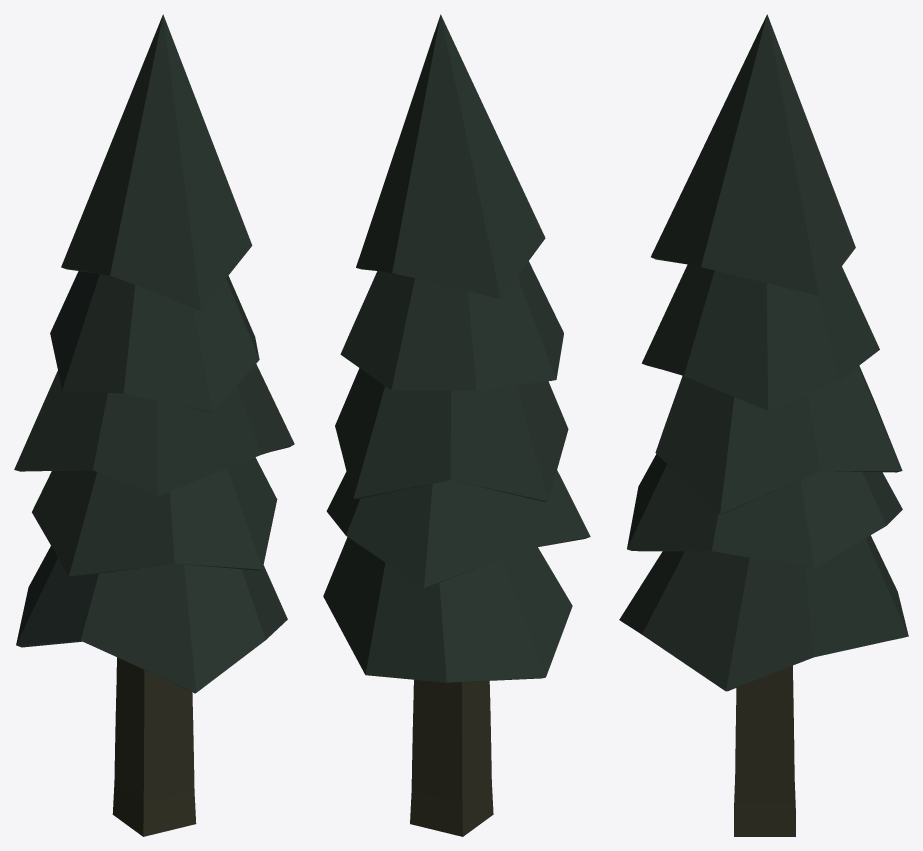
File: ConiferousTree.fbx
The picture shows the model from 3 angles, left to right: view 1: azimuth 30°, elevation 25°; view 2: azimuth 150°, elevation 25°; view 3: azimuth 270°, elevation 25°; orthographic projection.
Visible parts, largest first — view 1: KI.002; view 2: KI.002; view 3: KI.002.
Boxes of the visible parts, box(x1,y1,x2,y2) form: KI.002: box(14, 14, 294, 836); KI.002: box(323, 14, 590, 836); KI.002: box(619, 14, 908, 836).
Size of the model in its own units: 52.05 by 169 by 54.31.
1 material, 1 textured.
